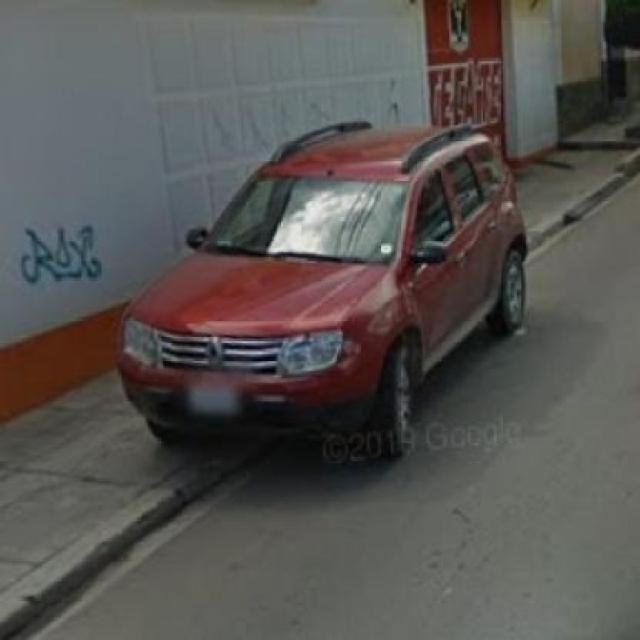car: (109, 127, 528, 466)
